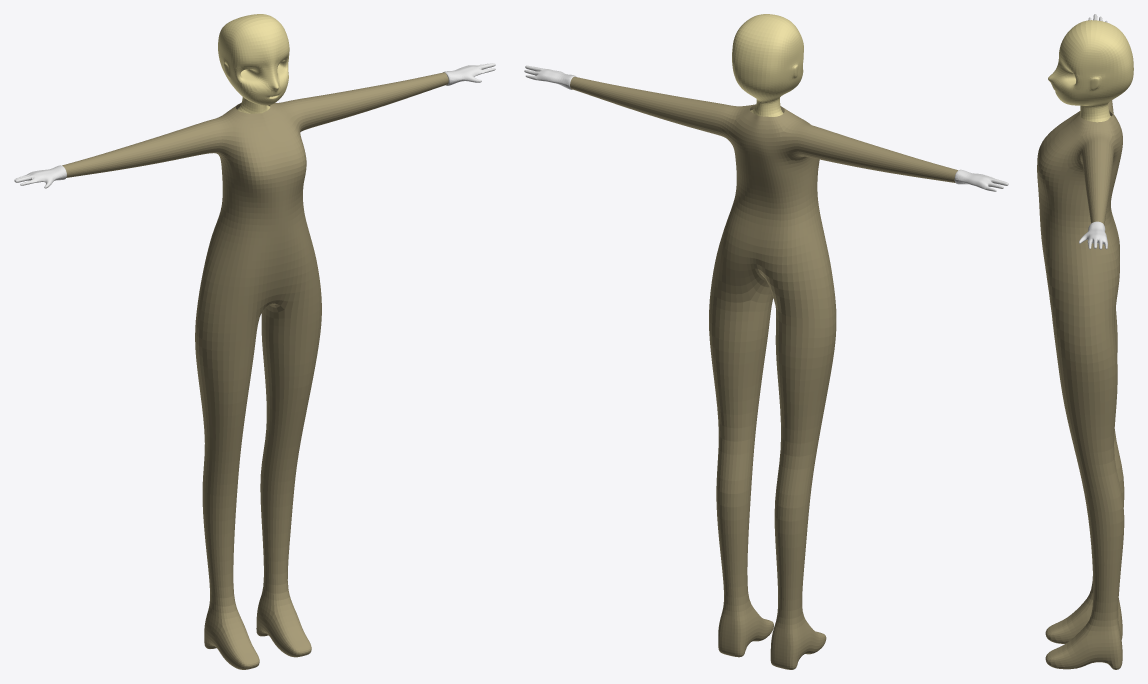
The model's file is FeChar.fbx.
The picture shows the model from 3 angles, left to right: view 1: azimuth 30°, elevation 25°; view 2: azimuth 150°, elevation 25°; view 3: azimuth 270°, elevation 25°; orthographic projection.
Parts seen in each view (by area): view 1: Body, Head, Hand; view 2: Body, Head, Hand; view 3: Body, Head, Hand.
Part boxes in pixels (bbox=[...]): Body: bbox=[62, 72, 448, 669]; Head: bbox=[218, 14, 289, 113]; Hand: bbox=[14, 63, 495, 188]; Body: bbox=[570, 76, 957, 669]; Head: bbox=[732, 14, 803, 116]; Hand: bbox=[524, 65, 1008, 191]; Body: bbox=[1037, 100, 1124, 669]; Head: bbox=[1048, 20, 1133, 122]; Hand: bbox=[1079, 14, 1107, 249].
Size of the model in its own units: 140 by 176 by 24.51.
